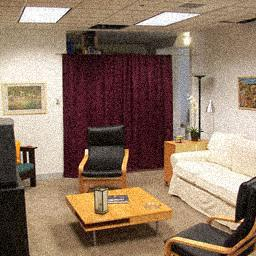Otro Obstaculo: (63, 57, 169, 172)
